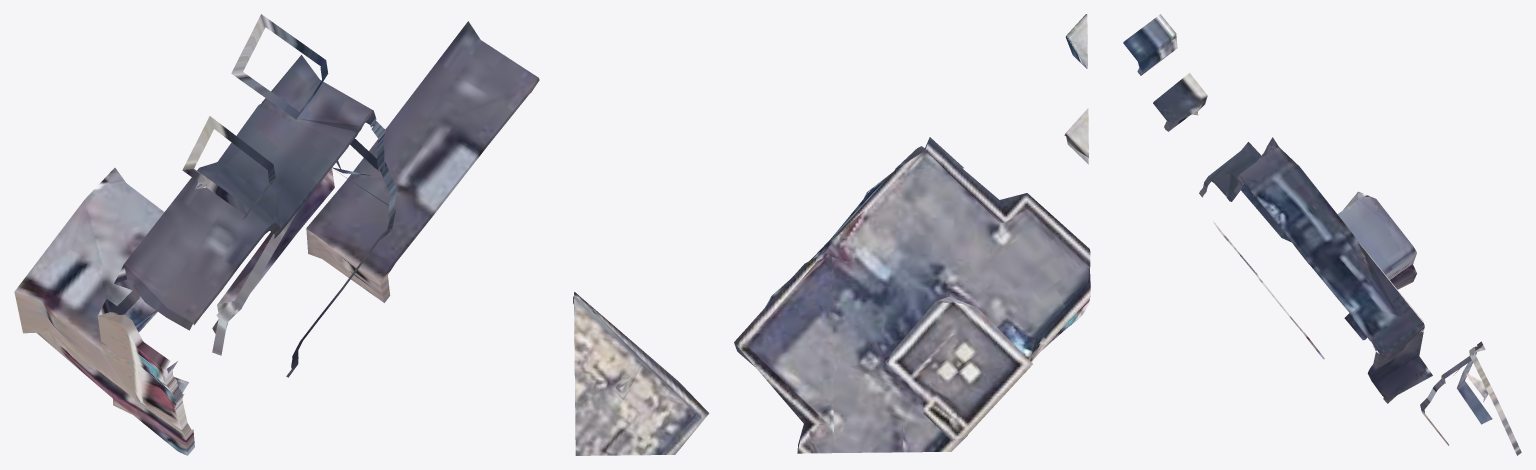
The picture shows the model from 3 angles, left to right: view 1: azimuth 30°, elevation 25°; view 2: azimuth 150°, elevation 25°; view 3: azimuth 270°, elevation 25°; orthographic projection. The views are drawn at different scales.
Size of the model in its own units: 31.86 by 28.13 by 31.09.
1 material, 1 textured.
